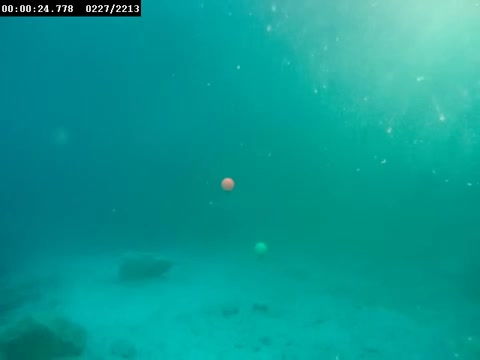buoy_green: (255, 241, 267, 259)
buoy_red: (218, 176, 235, 196)
